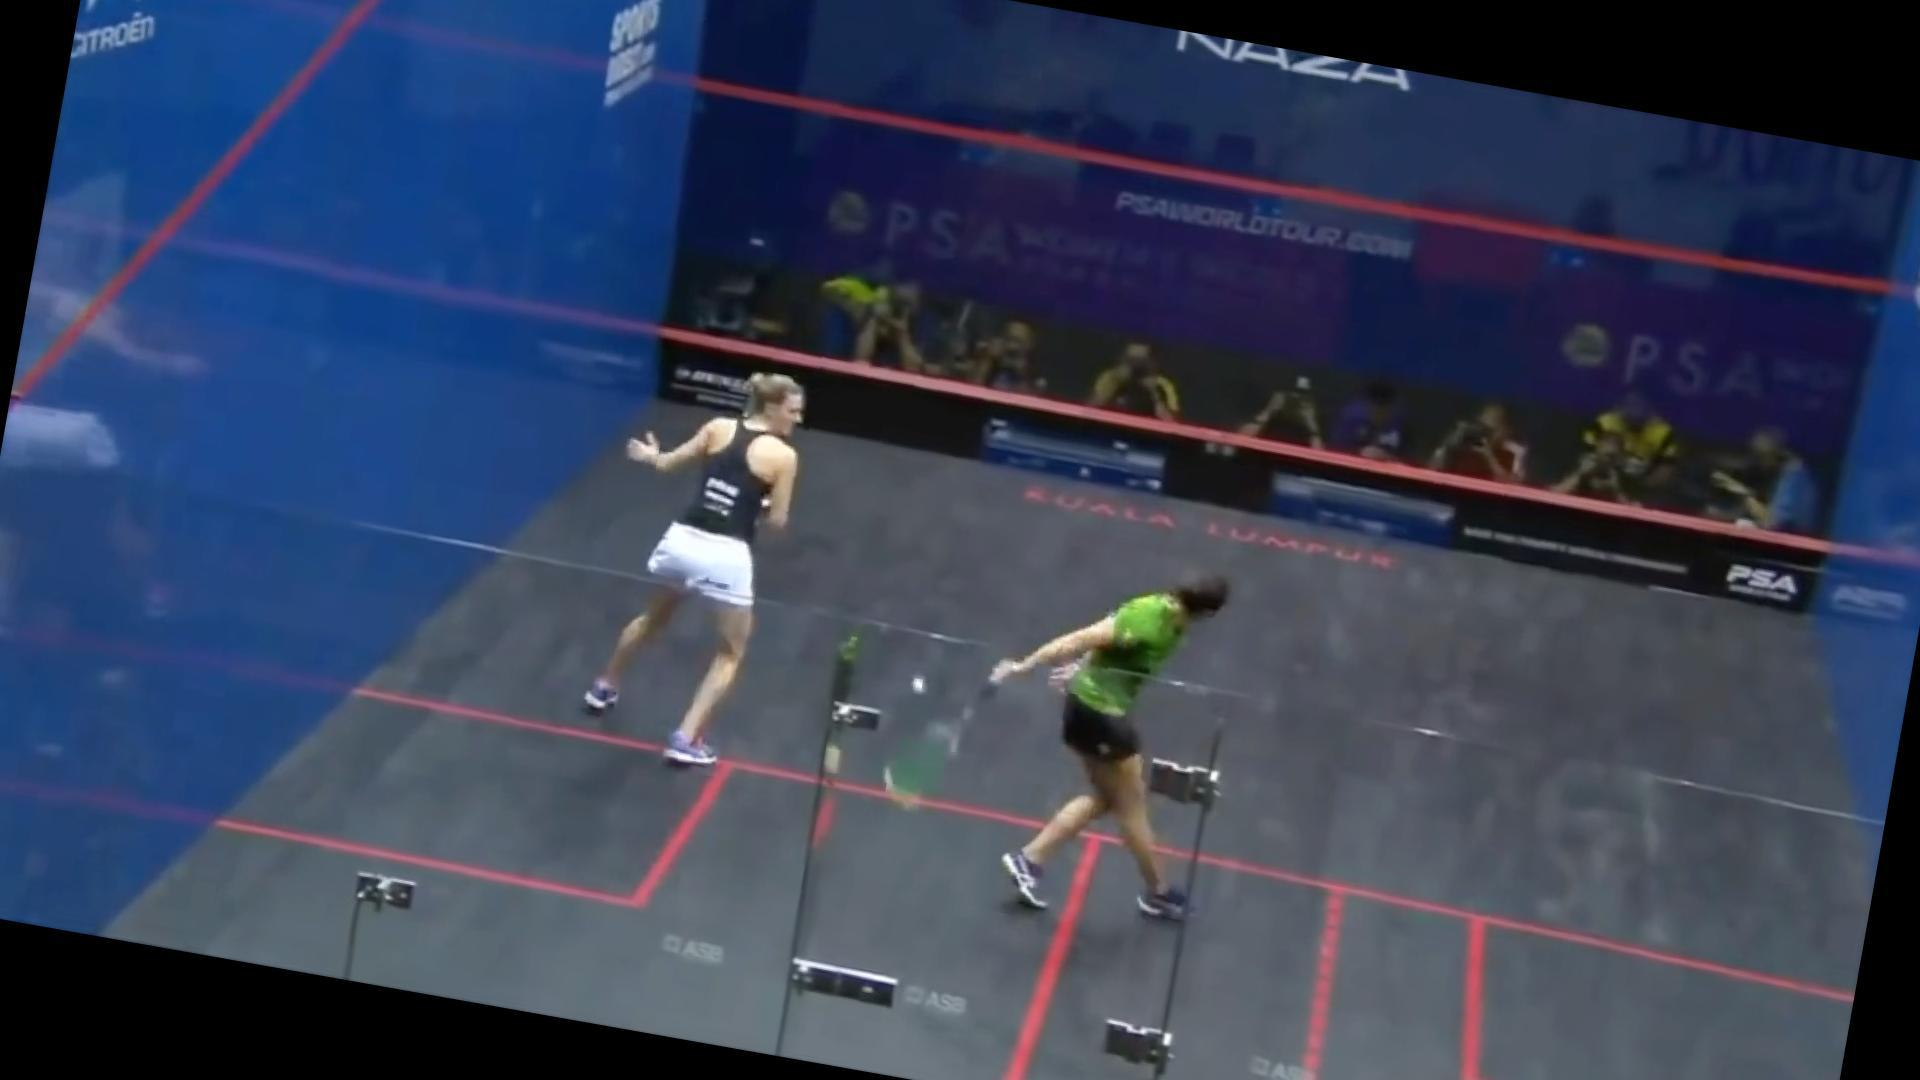Squash-Ball: (894, 659, 945, 716)
